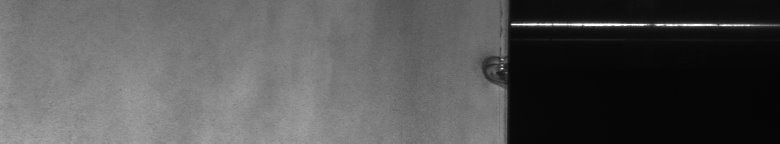hb: (472, 47, 496, 92)
